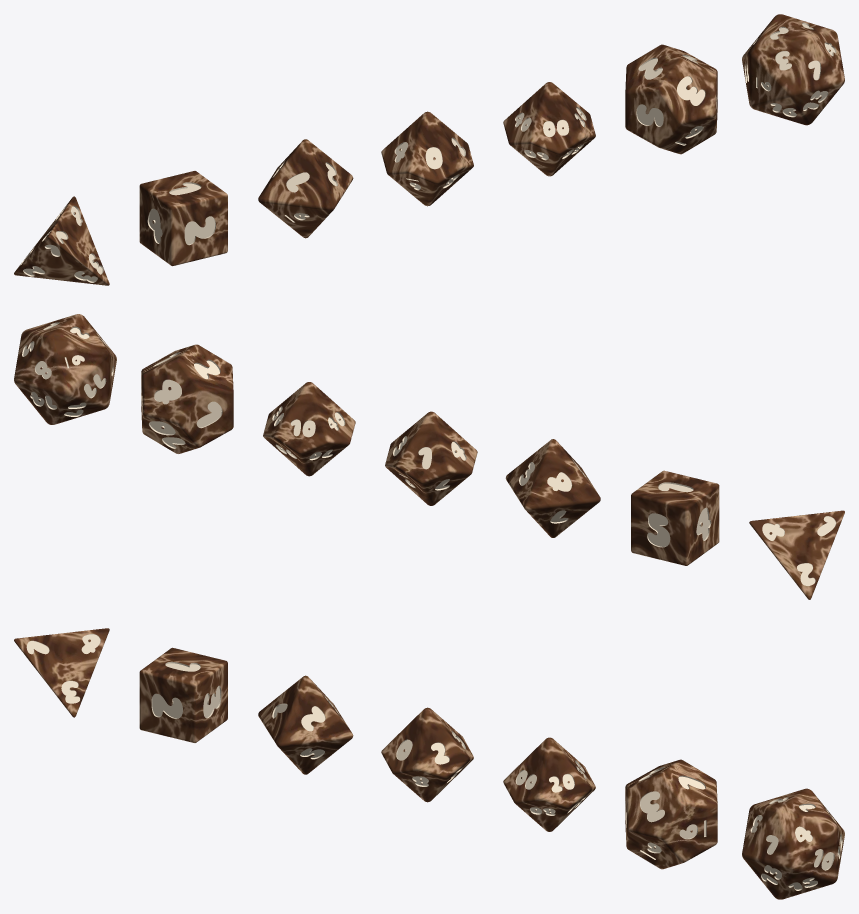
File: cocoa.glb
3 renders of one model, top to bottom at view 1: azimuth 30°, elevation 25°; view 2: azimuth 150°, elevation 25°; view 3: azimuth 330°, elevation 25°, orthographic.
Visible parts, largest first — view 1: d20, d12, d6, d100, d10, d8, d4; view 2: d20, d12, d6, d100, d10, d8, d4; view 3: d20, d12, d6, d8, d10, d100, d4.
Boxes of the visible parts, x1,y1,x2,y2 form: d20: [742, 14, 844, 125]; d12: [625, 44, 717, 154]; d6: [139, 171, 227, 266]; d100: [503, 82, 595, 176]; d10: [381, 111, 473, 206]; d8: [258, 139, 353, 238]; d4: [14, 196, 109, 285]; d20: [14, 314, 116, 424]; d12: [141, 344, 233, 453]; d6: [631, 470, 719, 565]; d100: [263, 382, 355, 476]; d10: [385, 411, 477, 505]; d8: [505, 439, 600, 537]; d4: [749, 510, 844, 599]; d20: [742, 788, 844, 899]; d12: [625, 759, 717, 869]; d6: [139, 647, 227, 742]; d8: [258, 675, 353, 774]; d10: [381, 707, 473, 802]; d100: [503, 737, 595, 831]; d4: [14, 628, 109, 717].
Bounding box in the file's own units: 21.14 × 2.47 × 2.47.
14 materials, 7 textured.
